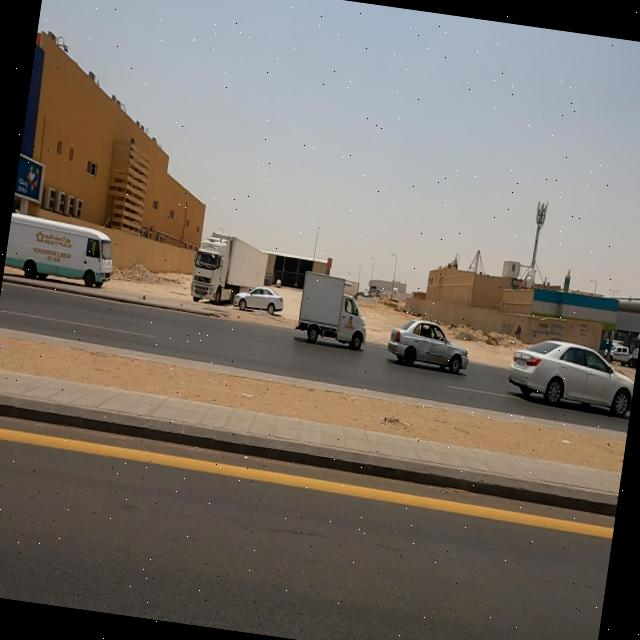Graffiti: (538, 320, 566, 340), (500, 319, 517, 333)
